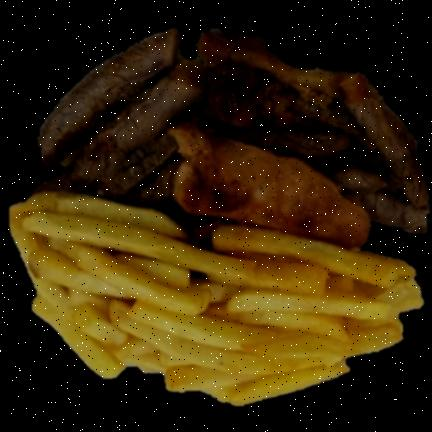chicken: (168, 125, 369, 248)
meat: (38, 30, 427, 233)
potato: (9, 193, 422, 405)
